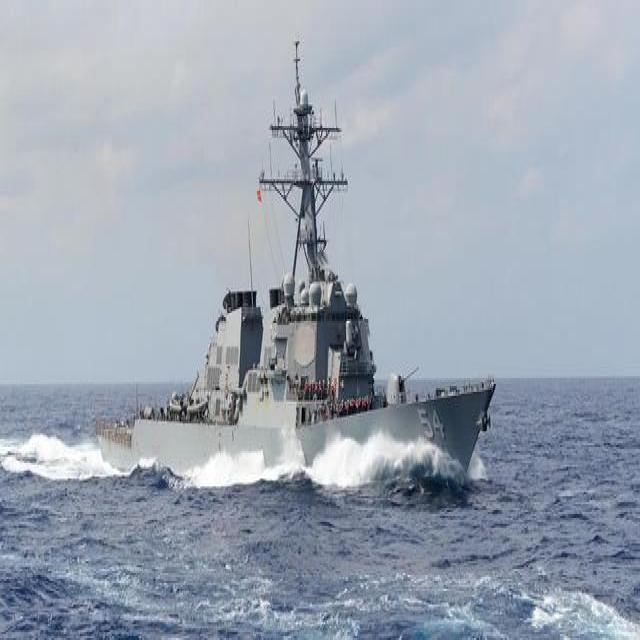navalvessels: (156, 94, 509, 492)
